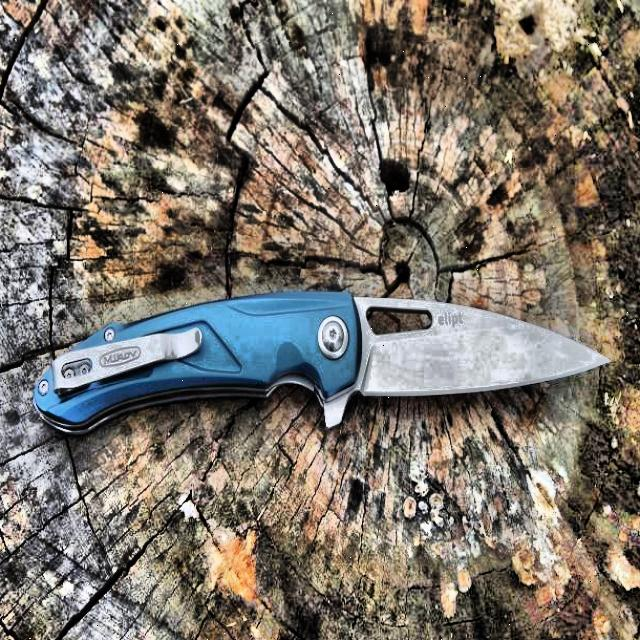knife: (29, 282, 610, 446)
